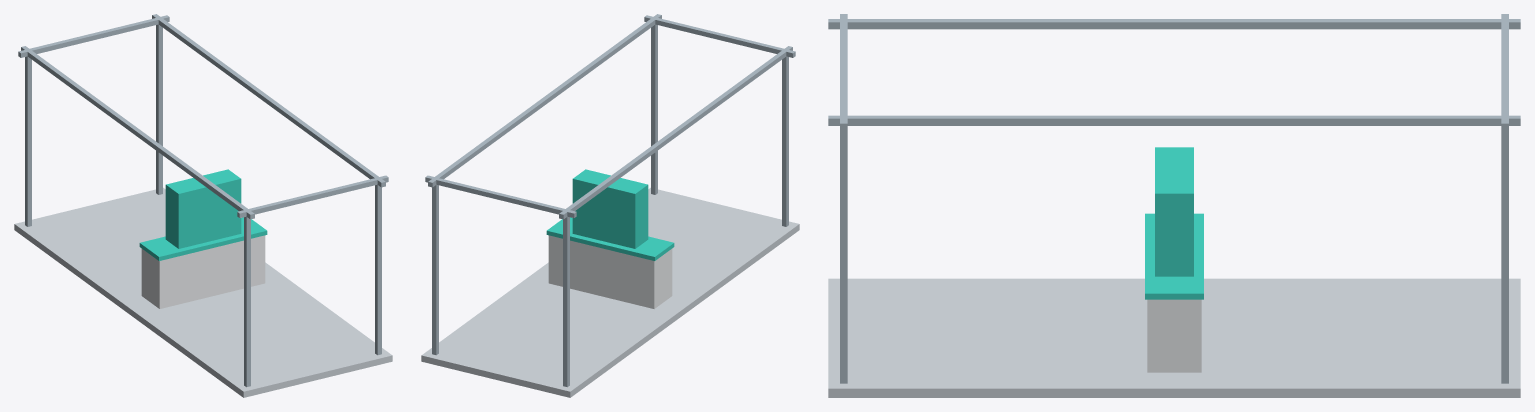
3 renders of one model, left to right at view 1: azimuth 30°, elevation 25°; view 2: azimuth 150°, elevation 25°; view 3: azimuth 270°, elevation 25°, orthographic. The views are drawn at different scales.
Parts seen in each view (by area): view 1: Exhibition Booth Concept; view 2: Exhibition Booth Concept; view 3: Exhibition Booth Concept.
Boxes of the visible parts, box(x1,y1,x2,y2) form: Exhibition Booth Concept: box(14, 14, 392, 397); Exhibition Booth Concept: box(421, 14, 799, 397); Exhibition Booth Concept: box(828, 14, 1520, 397).
Bounding box in the file's own units: 3 × 3.49 × 8.
